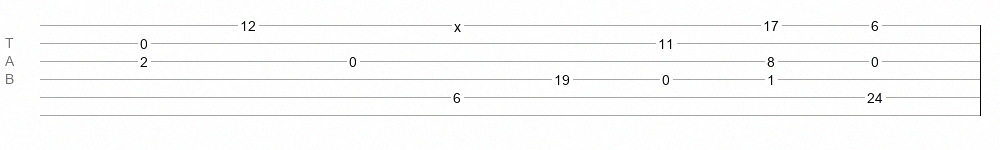0: (140, 36, 148, 46), (349, 54, 357, 64), (662, 72, 670, 82), (871, 54, 879, 64)
1: (767, 72, 775, 82)
11: (658, 36, 674, 46)
12: (240, 18, 256, 28)
17: (763, 18, 779, 28)
19: (554, 72, 570, 82)
2: (140, 54, 148, 64)
24: (867, 90, 883, 100)
6: (453, 90, 461, 100), (871, 18, 879, 28)
8: (767, 54, 775, 64)
x: (454, 19, 461, 27)
